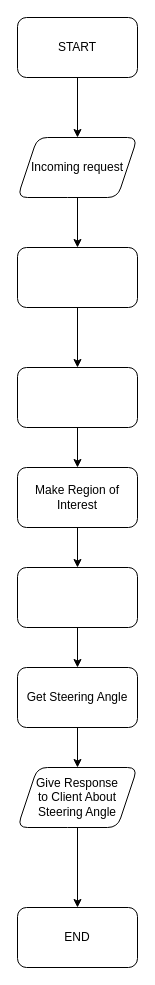
Some shapes in this 155 by 985 pixel diagram are drawn without their labels. Here are the shapes that lost their labels. From the top down, the centre of each, then its label:
point (77, 277): Detect Color
point (77, 397): Detect Edges
point (77, 597): Detect Line
